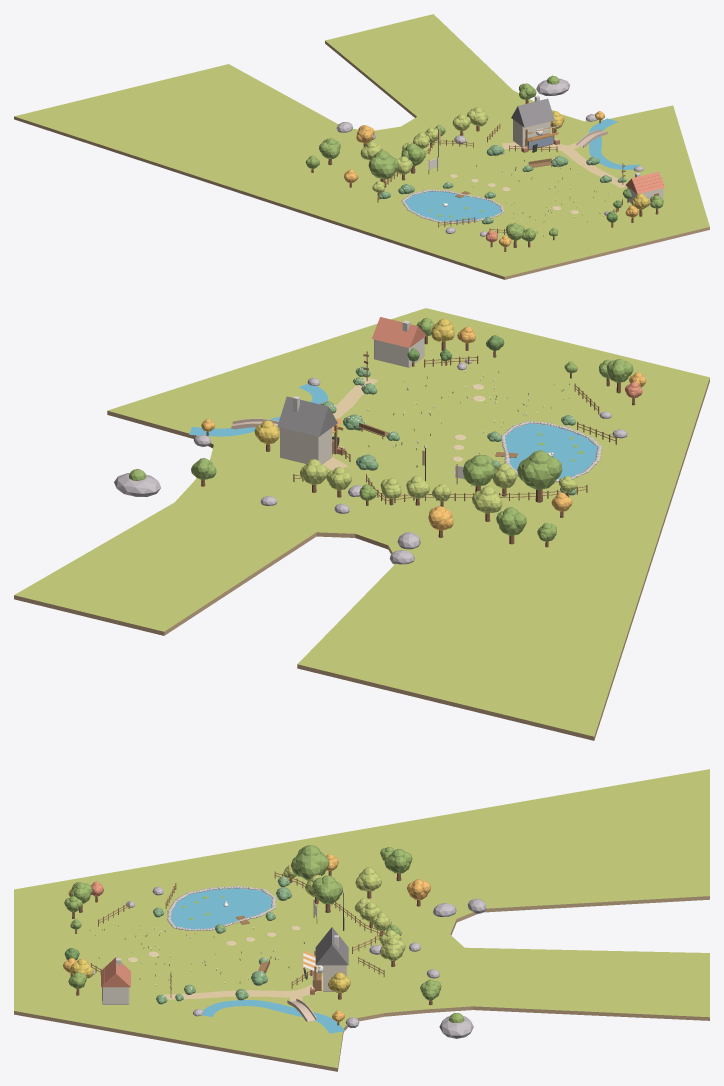
File: diary-village-v4.glb
The picture shows the model from 3 angles, top to bottom: view 1: azimuth 30°, elevation 25°; view 2: azimuth 150°, elevation 25°; view 3: azimuth 270°, elevation 25°; orthographic projection. The views are drawn at different scales.
Visible parts, largest first — view 1: V4 Ground, V4 Pond, V4 Shop, V4 Rocks, V4 Bushes, V4 House, V4 Path Main, V4 Tree 02, V4 River; view 2: V4 Ground, V4 Pond, V4 Shop, V4 Rocks, V4 House, V4 Bushes, V4 Tree 02, V4 Tree 05, V4 River, V4 Path Main, V4 Tree 09, V4 Tree 03; view 3: V4 Ground, V4 Pond, V4 Shop, V4 Rocks, V4 House, V4 Bushes, V4 River, V4 Tree 02, V4 Path Main, V4 Tree 05, V4 Tree 09, V4 Tree 03.
Boxes of the visible parts, bbox=[...] form: V4 Ground: bbox=[14, 14, 709, 279]; V4 Pond: bbox=[401, 189, 504, 223]; V4 Shop: bbox=[511, 95, 559, 152]; V4 Rocks: bbox=[336, 75, 643, 236]; V4 Bushes: bbox=[379, 144, 626, 224]; V4 House: bbox=[625, 171, 664, 205]; V4 Path Main: bbox=[502, 142, 626, 187]; V4 Tree 02: bbox=[368, 150, 399, 187]; V4 River: bbox=[589, 118, 639, 169]; V4 Ground: bbox=[14, 308, 709, 740]; V4 Pond: bbox=[501, 421, 602, 481]; V4 Shop: bbox=[277, 396, 345, 464]; V4 Rocks: bbox=[114, 358, 627, 564]; V4 House: bbox=[371, 317, 426, 367]; V4 Bushes: bbox=[320, 366, 576, 495]; V4 Tree 02: bbox=[517, 450, 562, 502]; V4 Tree 05: bbox=[463, 454, 495, 491]; V4 River: bbox=[189, 384, 328, 436]; V4 Path Main: bbox=[322, 377, 377, 470]; V4 Tree 09: bbox=[496, 507, 526, 544]; V4 Tree 03: bbox=[472, 486, 502, 521]; V4 Ground: bbox=[14, 769, 709, 1071]; V4 Pond: bbox=[167, 885, 275, 930]; V4 Shop: bbox=[302, 927, 348, 994]; V4 Rocks: bbox=[93, 887, 486, 1038]; V4 House: bbox=[101, 957, 130, 1004]; V4 Bushes: bbox=[153, 876, 291, 1004]; V4 River: bbox=[202, 1000, 344, 1033]; V4 Tree 02: bbox=[291, 845, 329, 880]; V4 Path Main: bbox=[164, 975, 323, 999]; V4 Tree 05: bbox=[312, 875, 342, 912]; V4 Tree 09: bbox=[384, 849, 412, 881]; V4 Tree 03: bbox=[355, 867, 381, 898].
Size of what is drawn, in the model's own units: 78.67 by 7.36 by 77.37.
